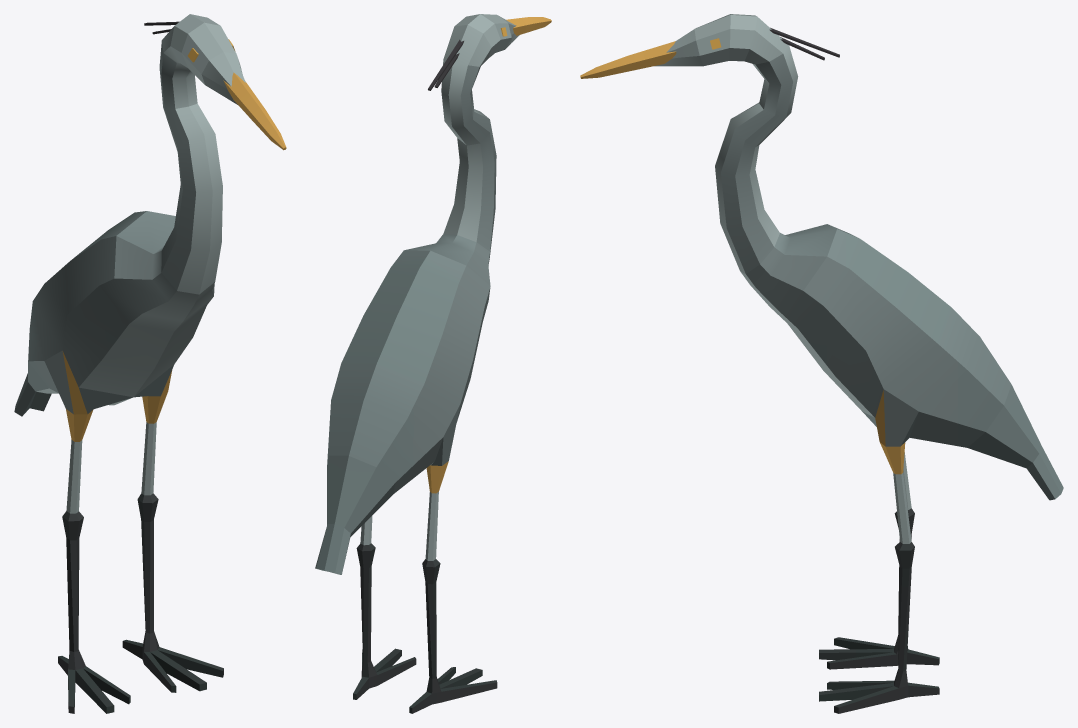
File: heron.glb
3 views of the same model, side by side, from view 1: azimuth 30°, elevation 25°; view 2: azimuth 150°, elevation 25°; view 3: azimuth 270°, elevation 25° (orthographic). The views are drawn at different scales.
Visible parts, largest first — view 1: Geo_Heron; view 2: Geo_Heron; view 3: Geo_Heron.
Boxes of the visible parts, <box> form: Geo_Heron: <box>14,14,286,713</box>; Geo_Heron: <box>315,14,551,713</box>; Geo_Heron: <box>580,14,1063,713</box>.
Size of the model in its own units: 40.27 by 177 by 117.
Materials: 1 (1 with a texture image).
